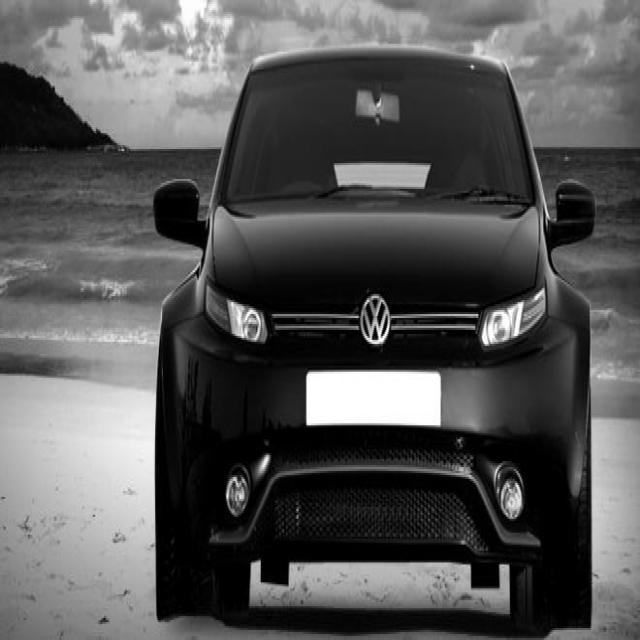car: (146, 32, 603, 640)
license-plate: (306, 372, 445, 435)
